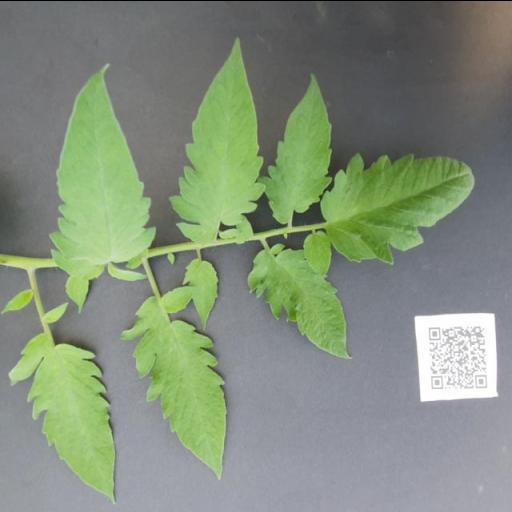Healthy: (35, 62, 155, 264), (119, 284, 228, 478), (168, 35, 267, 245), (0, 331, 117, 502), (320, 152, 477, 264), (258, 70, 334, 224), (246, 248, 352, 358), (184, 258, 220, 332), (303, 229, 333, 276)
